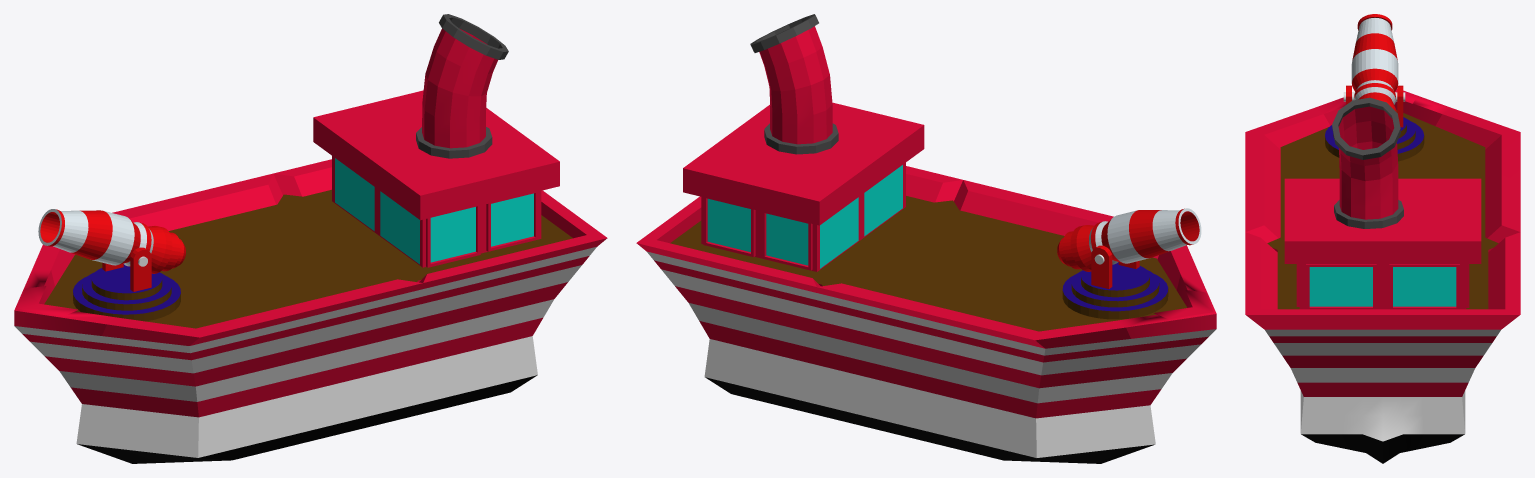
The model's file is boat1.fbx.
3 renders of one model, left to right at view 1: azimuth 30°, elevation 25°; view 2: azimuth 150°, elevation 25°; view 3: azimuth 270°, elevation 25°, orthographic. The views are drawn at different scales.
Parts seen in each view (by area): view 1: Boat, Smoke Duct, Cannon body, Cannon Base, Cannon handler; view 2: Boat, Smoke Duct, Cannon body, Cannon Base, Cannon handler; view 3: Boat, Smoke Duct, Cannon body, Cannon Base, Cannon handler.
Part boxes in pixels (left/top/right/bottom): Boat: left=14, top=90, right=607, bottom=463; Smoke Duct: left=416, top=14, right=508, bottom=158; Cannon body: left=38, top=209, right=185, bottom=273; Cannon Base: left=73, top=264, right=180, bottom=321; Cannon handler: left=102, top=247, right=151, bottom=291; Boat: left=636, top=102, right=1216, bottom=463; Smoke Duct: left=750, top=14, right=838, bottom=154; Cannon body: left=1057, top=208, right=1201, bottom=271; Cannon Base: left=1062, top=262, right=1168, bottom=319; Cannon handler: left=1091, top=245, right=1139, bottom=288; Boat: left=1245, top=88, right=1520, bottom=463; Smoke Duct: left=1332, top=97, right=1403, bottom=228; Cannon body: left=1351, top=14, right=1398, bottom=112; Cannon Base: left=1325, top=117, right=1424, bottom=161; Cannon handler: left=1343, top=85, right=1405, bottom=127.
Size of the model in its own units: 596 by 410 by 298.
